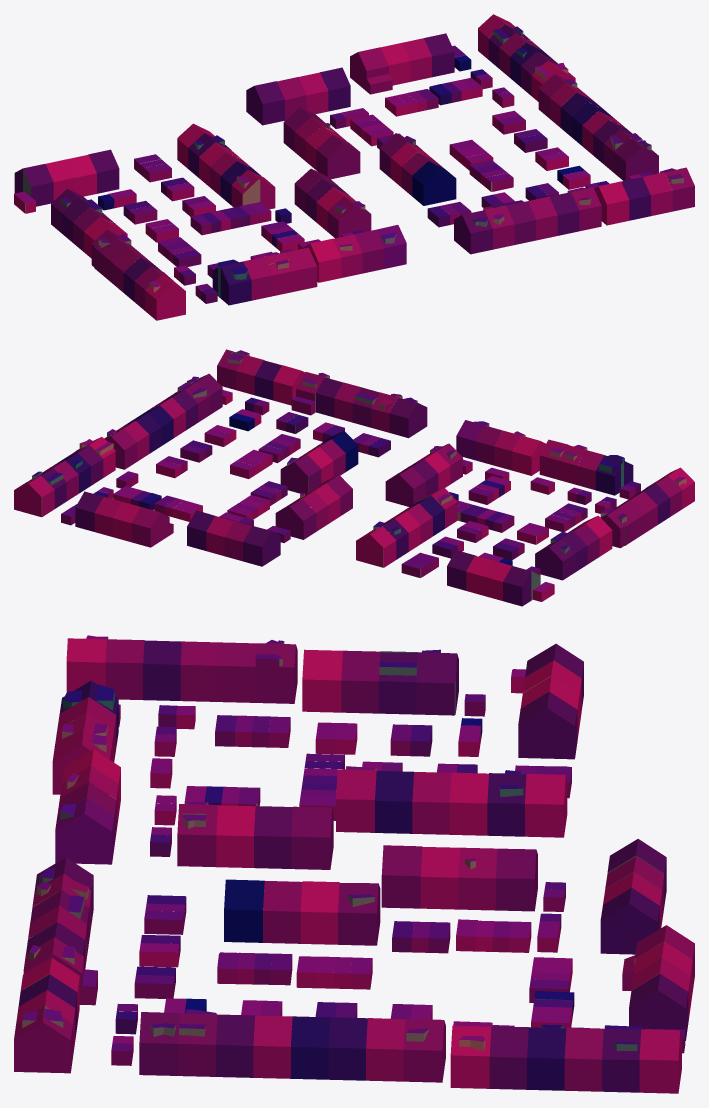
File: buildings_5_4.glb
3 renders of one model, top to bottom at view 1: azimuth 30°, elevation 25°; view 2: azimuth 150°, elevation 25°; view 3: azimuth 270°, elevation 25°, orthographic. The views are drawn at different scales.
Parts seen in each view (by area): view 1: buildings_5_4; view 2: buildings_5_4; view 3: buildings_5_4.
Part boxes in pixels (<box>): buildings_5_4: <box>14,14,694,320</box>; buildings_5_4: <box>14,349,694,606</box>; buildings_5_4: <box>14,635,694,1093</box>.
Bounding box in the file's own units: 165 × 9.47 × 114.
